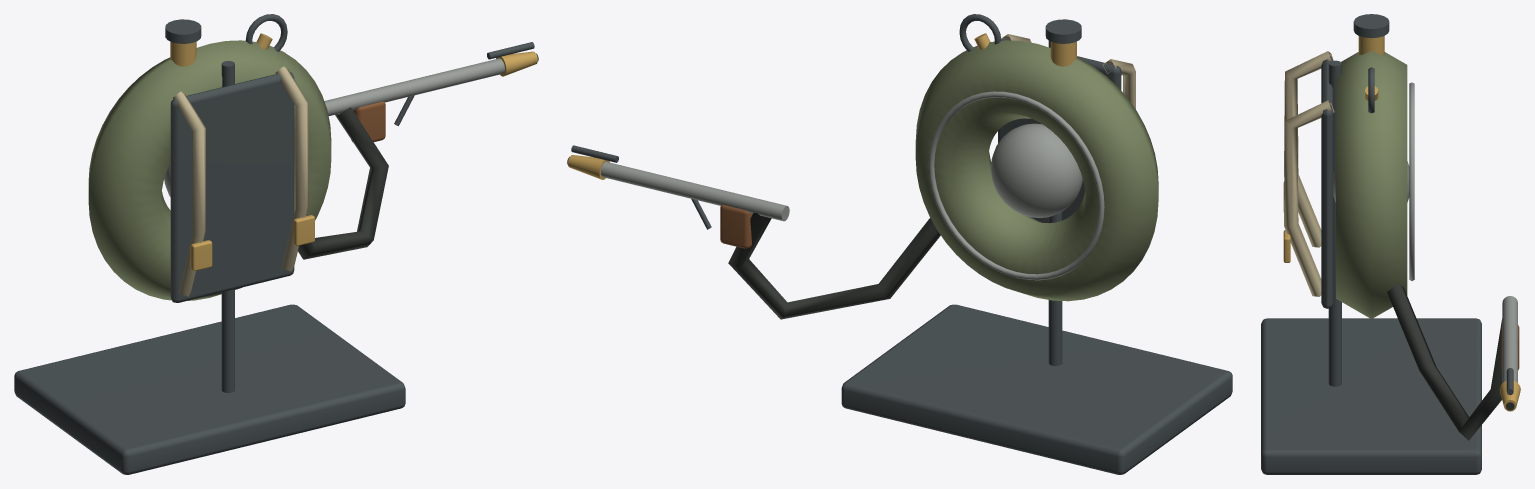
File: wex_flamethrower_1917_web.glb
3 renders of one model, left to right at view 1: azimuth 30°, elevation 25°; view 2: azimuth 150°, elevation 25°; view 3: azimuth 270°, elevation 25°, orthographic.
Visible parts, largest first — view 1: Dark_Blued_Steel, Olive_Painted_Metal, Canvas_Linen, Rubber, Burnished_Steel, Brass, Walnut_Wood; view 2: Dark_Blued_Steel, Olive_Painted_Metal, Burnished_Steel, Rubber, Brass, Walnut_Wood, Canvas_Linen; view 3: Dark_Blued_Steel, Olive_Painted_Metal, Canvas_Linen, Rubber, Burnished_Steel, Brass.
Boxes of the visible parts, box(x1,y1,x2,y2) form: Dark_Blued_Steel: box(14, 14, 534, 474); Olive_Painted_Metal: box(88, 40, 331, 300); Canvas_Linen: box(172, 66, 308, 296); Rubber: box(298, 53, 538, 259); Burnished_Steel: box(164, 58, 504, 196); Brass: box(170, 33, 537, 270); Walnut_Wood: box(351, 101, 385, 141); Dark_Blued_Steel: box(571, 14, 1232, 474); Olive_Painted_Metal: box(915, 40, 1158, 301); Burnished_Steel: box(601, 91, 1104, 280); Rubber: box(567, 156, 940, 319); Brass: box(568, 33, 1076, 179); Walnut_Wood: box(720, 205, 752, 248); Canvas_Linen: box(1001, 34, 1135, 109); Dark_Blued_Steel: box(1261, 14, 1513, 474); Olive_Painted_Metal: box(1336, 51, 1407, 318); Canvas_Linen: box(1284, 51, 1334, 296); Rubber: box(1387, 283, 1514, 440); Burnished_Steel: box(1333, 82, 1517, 382); Brass: box(1283, 36, 1520, 411).
Size of the model in its own units: 3.04 by 2.06 by 1.29.
